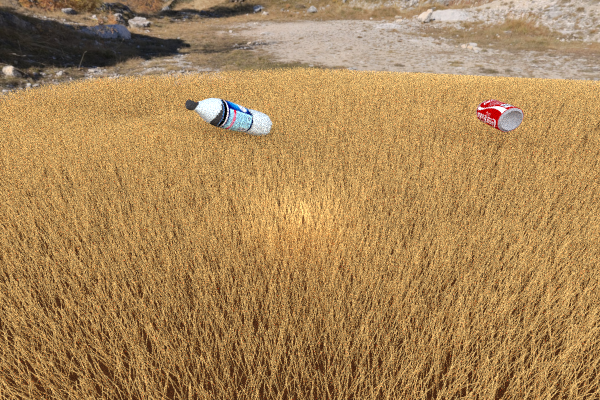Plastic Bottle: (185, 98, 272, 136), (476, 99, 523, 132), (110, 104, 164, 131)
